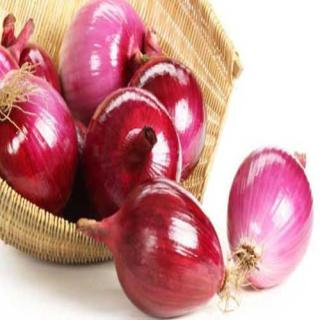Bawang Merah: (78, 179, 231, 320), (225, 144, 317, 293)
